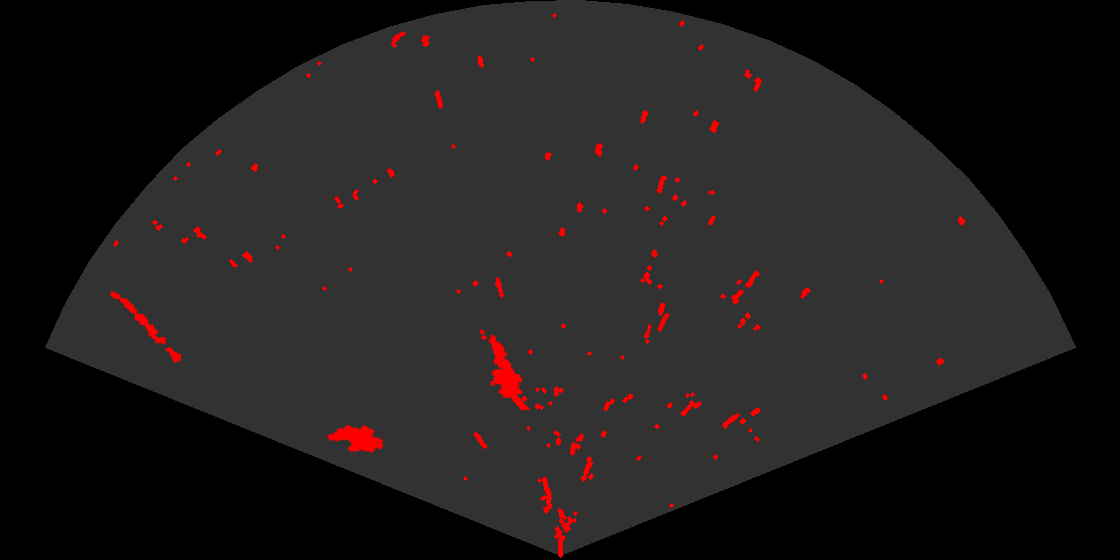AUV: (325, 423, 385, 454)
chain: (109, 290, 183, 364)
frogman: (487, 333, 532, 410)
